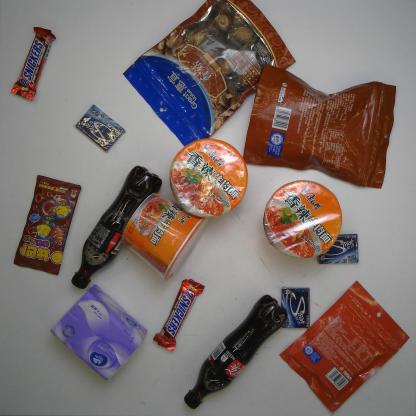Candy: (13, 174, 82, 276)
Chocolate: (153, 278, 205, 351), (11, 26, 56, 101)
Dried Food: (122, 0, 297, 146), (242, 64, 396, 190)
Dried Fruit: (279, 280, 410, 414)
Drink: (184, 294, 288, 410), (70, 164, 162, 288)
Gum: (75, 104, 126, 152), (316, 233, 359, 265), (281, 286, 310, 329)
Instant Noodles: (121, 193, 209, 281), (169, 138, 248, 218), (262, 180, 342, 258)
Tissue: (50, 284, 148, 381)
